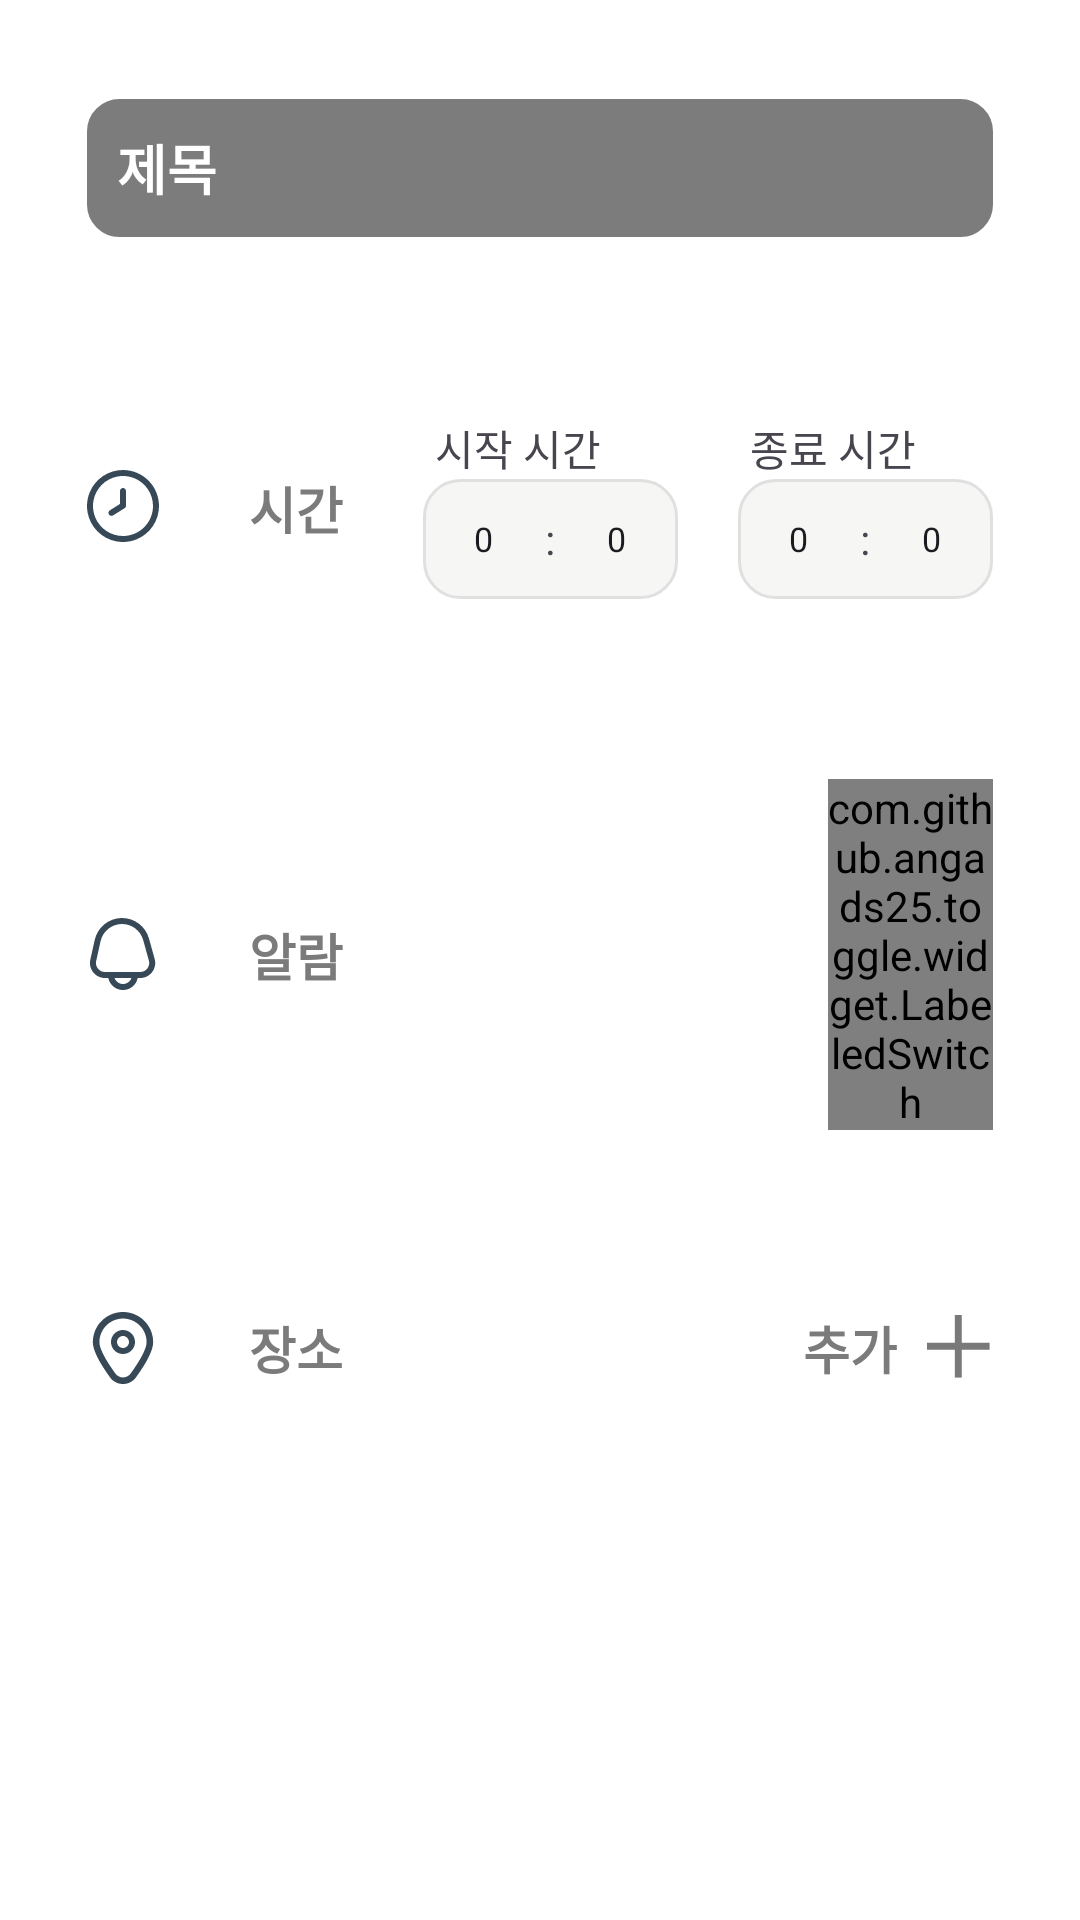

Icon bounding boxes for this 1080 × 1920 phone screenshot, format (x1, y1, x2, y2):
alarm: (90, 918, 156, 990)
clock: (87, 470, 159, 542)
place: (92, 1312, 154, 1384)
plus: (927, 1315, 990, 1378)
